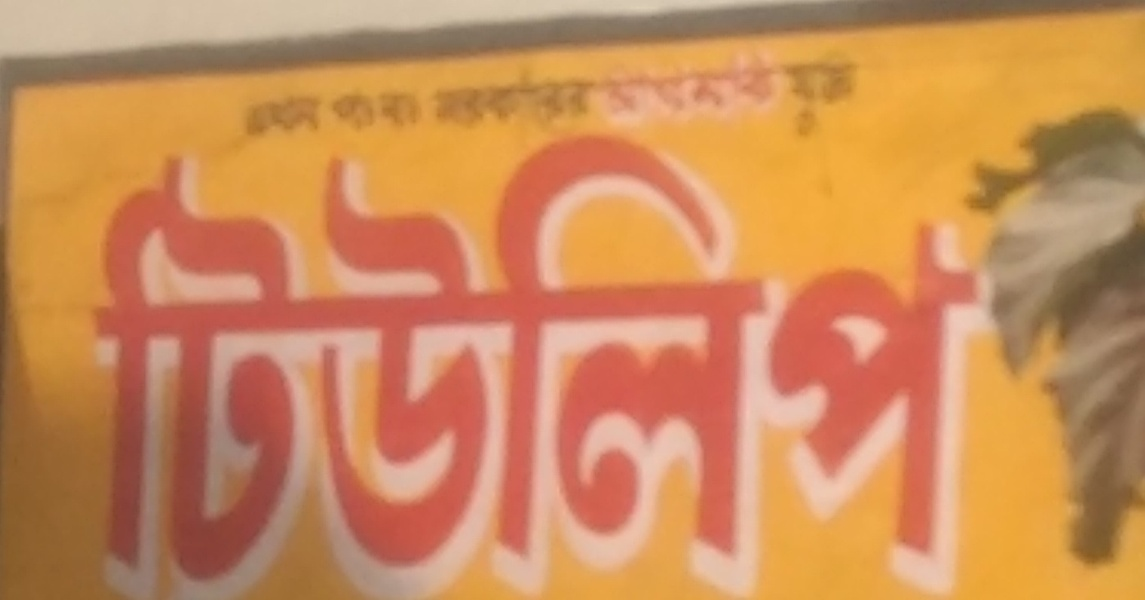text: (97, 98, 112, 597), (113, 98, 128, 597), (129, 98, 144, 597), (145, 98, 160, 597), (161, 98, 176, 597), (177, 98, 192, 597), (193, 98, 208, 597), (209, 98, 224, 597), (225, 98, 240, 597), (241, 98, 256, 597), (257, 98, 272, 597), (273, 98, 288, 597), (289, 98, 304, 597), (305, 98, 320, 597), (321, 98, 336, 597), (337, 98, 352, 597), (353, 98, 368, 597), (369, 98, 384, 597), (385, 98, 400, 597), (401, 98, 416, 597), (417, 98, 432, 597), (433, 98, 448, 597), (449, 98, 464, 597), (465, 98, 480, 597), (481, 98, 496, 597), (497, 98, 512, 597), (513, 98, 528, 597), (529, 98, 544, 597), (545, 98, 560, 597), (561, 98, 576, 597), (577, 98, 592, 597), (593, 98, 608, 597), (609, 98, 624, 597), (625, 98, 640, 597), (641, 98, 656, 597), (657, 98, 672, 597), (673, 98, 688, 597), (689, 98, 704, 597), (705, 98, 720, 597), (721, 98, 736, 597), (737, 98, 752, 597), (753, 98, 768, 597), (769, 98, 784, 597), (785, 98, 800, 597), (801, 98, 816, 597), (817, 98, 832, 597), (833, 98, 848, 597), (849, 98, 864, 597), (865, 98, 880, 597), (881, 98, 896, 597), (897, 98, 912, 597), (913, 98, 928, 597), (929, 98, 944, 597), (945, 98, 960, 597), (961, 98, 976, 597), (977, 98, 992, 597), (993, 98, 1008, 597), (87, 98, 96, 597), (785, 57, 800, 144), (801, 57, 816, 144), (817, 57, 832, 144), (833, 57, 848, 144), (849, 57, 864, 144), (769, 49, 785, 125), (609, 49, 624, 125), (625, 49, 640, 125), (641, 49, 656, 125), (657, 49, 672, 125), (673, 49, 688, 125), (689, 49, 704, 125), (705, 49, 720, 125), (721, 49, 736, 125), (737, 49, 752, 125), (753, 49, 768, 125), (433, 65, 448, 135), (449, 65, 464, 135), (465, 65, 480, 135), (481, 65, 496, 135), (497, 65, 512, 135), (513, 65, 528, 135), (529, 65, 544, 135), (545, 65, 560, 135), (561, 65, 576, 135), (577, 65, 592, 135), (337, 82, 352, 138), (353, 82, 368, 138), (369, 82, 384, 138), (385, 82, 400, 138), (401, 82, 416, 138), (241, 89, 256, 144), (257, 89, 272, 144), (273, 89, 288, 144), (289, 89, 304, 144), (305, 89, 320, 144), (775, 57, 784, 144), (600, 49, 608, 125), (326, 82, 336, 138), (417, 82, 425, 138), (321, 89, 326, 144), (593, 65, 596, 135), (865, 57, 867, 144), (238, 89, 240, 144)
